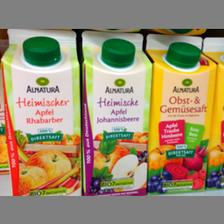Saft: (0, 28, 80, 194), (81, 29, 152, 195), (144, 32, 216, 192)
